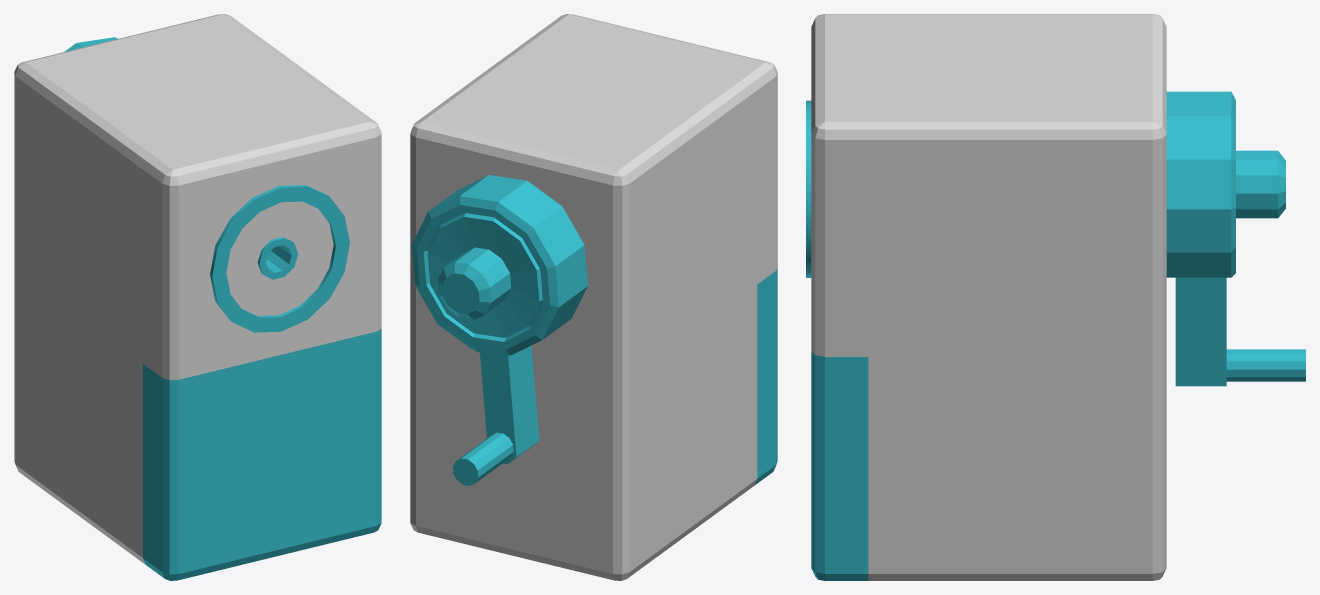
File: TailleCrayon.fbx
3 views of the same model, side by side, from view 1: azimuth 30°, elevation 25°; view 2: azimuth 150°, elevation 25°; view 3: azimuth 270°, elevation 25° (orthographic). The views are drawn at different scales.
Parts seen in each view (by area): view 1: TailleCrayon; view 2: TailleCrayon; view 3: TailleCrayon.
Boxes of the visible parts, x1,y1,x2,y2 form: TailleCrayon: (14, 14, 381, 580); TailleCrayon: (410, 14, 777, 580); TailleCrayon: (806, 14, 1305, 580).
Bounding box in the file's own units: 6.94 × 12.47 × 12.32.
